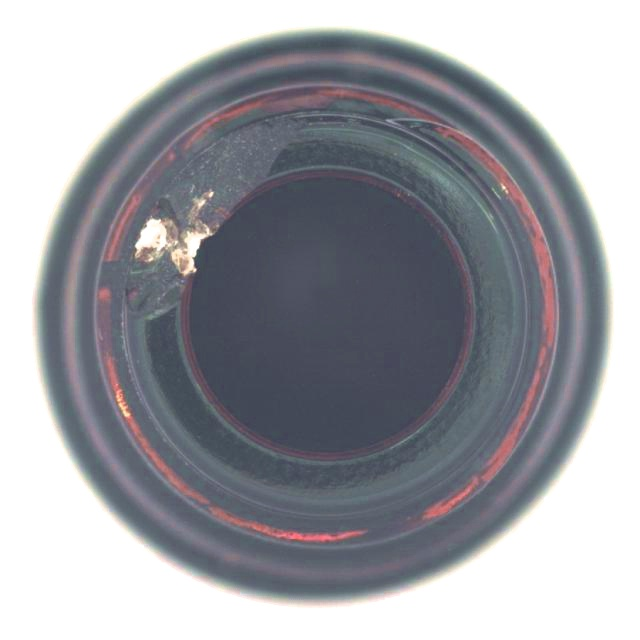bad-broken_small: (30, 29, 614, 607)
